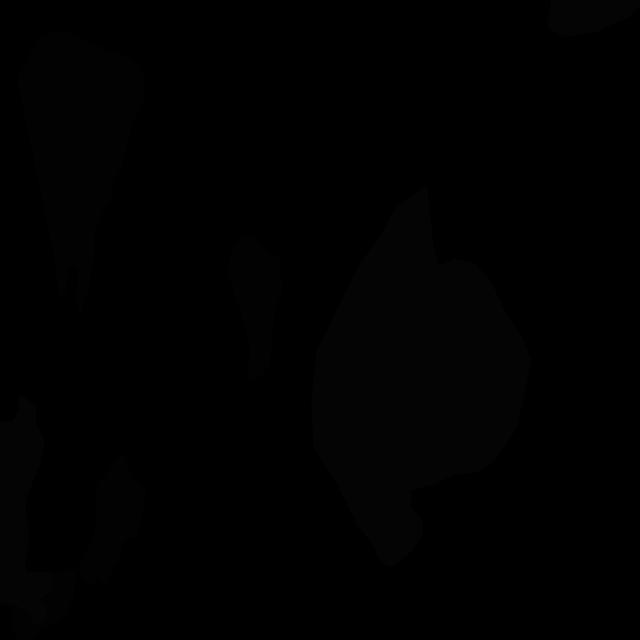cardboard: (16, 32, 145, 314), (78, 452, 146, 586), (228, 234, 284, 381), (10, 569, 78, 640)
soft_plastic: (311, 185, 531, 567), (0, 396, 53, 624), (548, 0, 640, 35)
